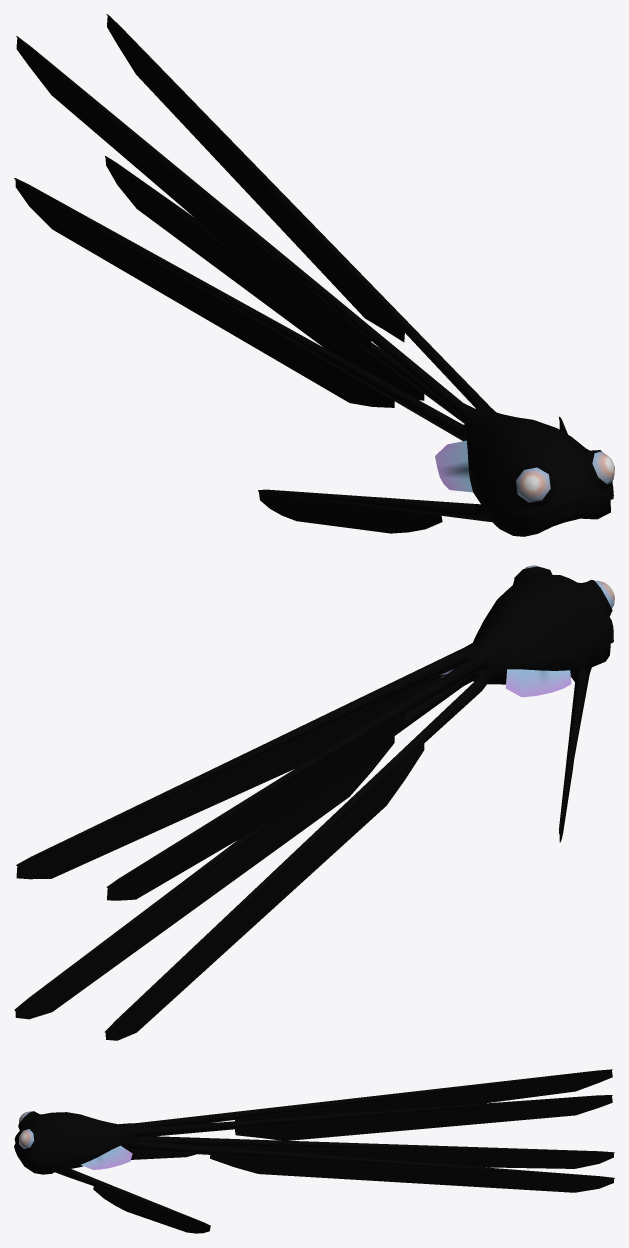
Rendered from Geo_jellyfish.fbx.
3 views of the same model, one above another, from view 1: azimuth 30°, elevation 25°; view 2: azimuth 150°, elevation 25°; view 3: azimuth 270°, elevation 25° (orthographic). The views are drawn at different scales.
Parts seen in each view (by area): view 1: Geo_Jellyfish; view 2: Geo_Jellyfish; view 3: Geo_Jellyfish.
Part boxes in pixels (left/top/right/bottom): Geo_Jellyfish: left=14, top=14, right=614, bottom=536; Geo_Jellyfish: left=14, top=565, right=614, bottom=1040; Geo_Jellyfish: left=14, top=1069, right=614, bottom=1233.
Size of the model in its own units: 39.1 by 24.04 by 116.
